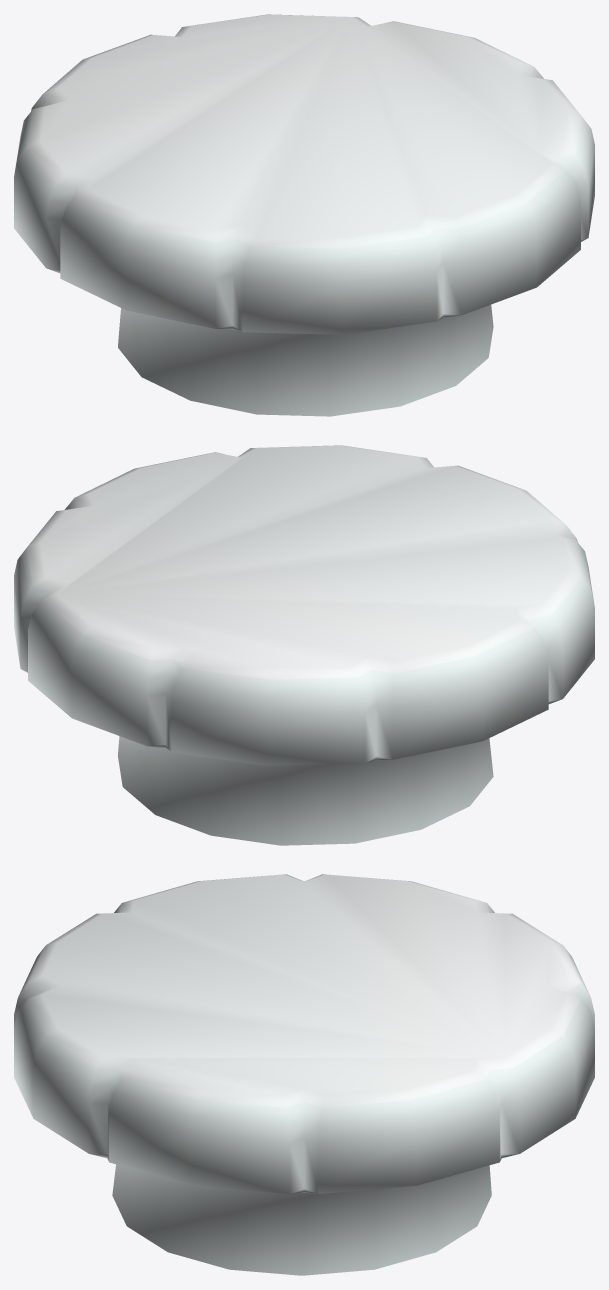
Rendered from Hat.fbx.
3 renders of one model, top to bottom at view 1: azimuth 30°, elevation 25°; view 2: azimuth 150°, elevation 25°; view 3: azimuth 270°, elevation 25°, orthographic.
Parts seen in each view (by area): view 1: hat; view 2: hat; view 3: hat.
Boxes of the visible parts, <box> form: hat: <box>14,14,594,416</box>; hat: <box>14,445,594,845</box>; hat: <box>14,874,594,1275</box>.
Bounding box in the file's own units: 0.7723 × 0.3085 × 0.7723.
1 material, 1 textured.
